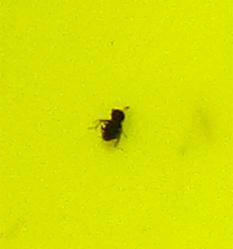Brachycera: (100, 100, 133, 149)
